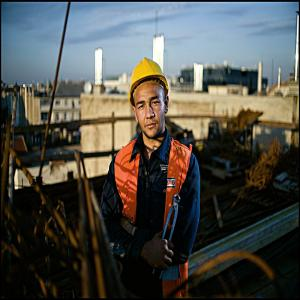yellow: (131, 59, 170, 138)
